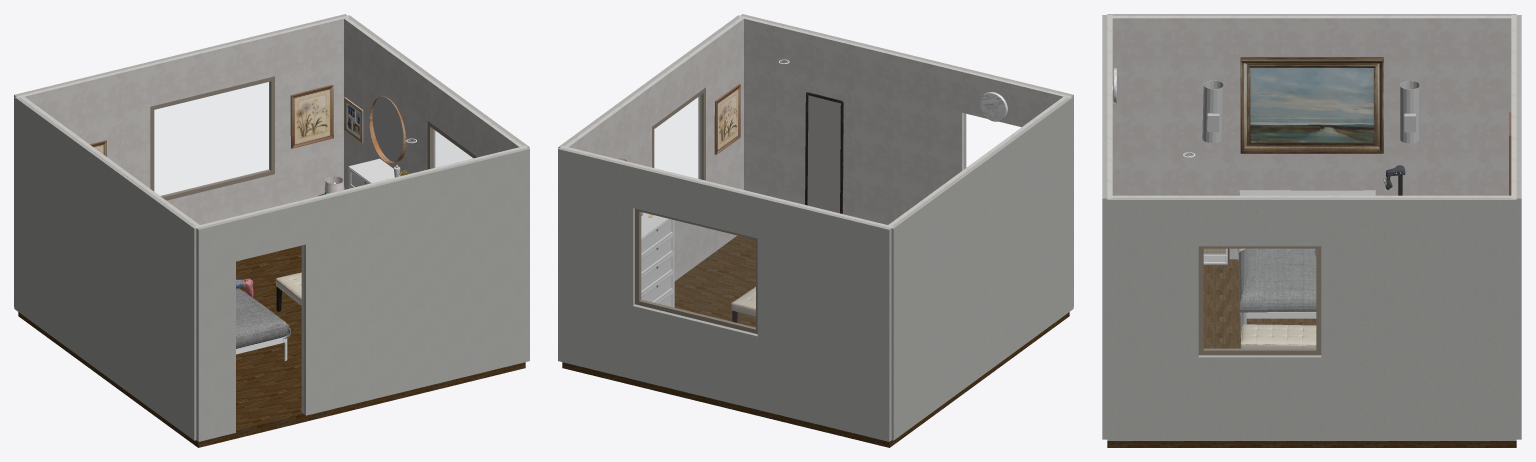
3 views of the same model, side by side, from view 1: azimuth 30°, elevation 25°; view 2: azimuth 150°, elevation 25°; view 3: azimuth 270°, elevation 25° (orthographic). The views are drawn at different scales.
Parts seen in each view (by area): view 1: world (×12), room_geometry_bedroom__v0, glass (×2), frame (×2), Shader1.001, P_2fd1f4982963c354.001; view 2: world (×11), glass (×2), room_geometry_bedroom__v0, frame (×2), Shader1.001, P_8fc12e17d7c19c39.001, P_ee6e97b011058d54.001, P_779afc3812688354.001, P_f6dd0bf09c3be439.001; view 3: world (×11), glass, room_geometry_bedroom__v0, Metal___Stainless_steel_2017.002 (×2), frame.
Part boxes in pixels (left/top/right/bottom): world (×12): left=14, top=14, right=529, bottom=441; room_geometry_bedroom__v0: left=18, top=245, right=525, bottom=447; glass (×2): left=154, top=82, right=472, bottom=196; frame (×2): left=150, top=76, right=477, bottom=200; Shader1.001: left=290, top=84, right=333, bottom=148; P_2fd1f4982963c354.001: left=348, top=158, right=399, bottom=188; world (×11): left=558, top=14, right=1073, bottom=441; glass (×2): left=640, top=95, right=755, bottom=327; room_geometry_bedroom__v0: left=562, top=235, right=1069, bottom=447; frame (×2): left=635, top=87, right=757, bottom=333; Shader1.001: left=714, top=84, right=740, bottom=154; P_8fc12e17d7c19c39.001: left=641, top=253, right=673, bottom=294; P_ee6e97b011058d54.001: left=641, top=234, right=673, bottom=276; P_779afc3812688354.001: left=641, top=219, right=673, bottom=257; P_f6dd0bf09c3be439.001: left=641, top=272, right=673, bottom=302; world (×11): left=1102, top=14, right=1521, bottom=440; glass: left=1204, top=249, right=1315, bottom=348; room_geometry_bedroom__v0: left=1107, top=259, right=1516, bottom=447; Metal___Stainless_steel_2017.002 (×2): left=1202, top=80, right=1420, bottom=143; frame: left=1198, top=246, right=1321, bottom=355.
Size of the model in its own units: 4.3 by 2.7 by 4.1.
58 materials, 28 textured.
